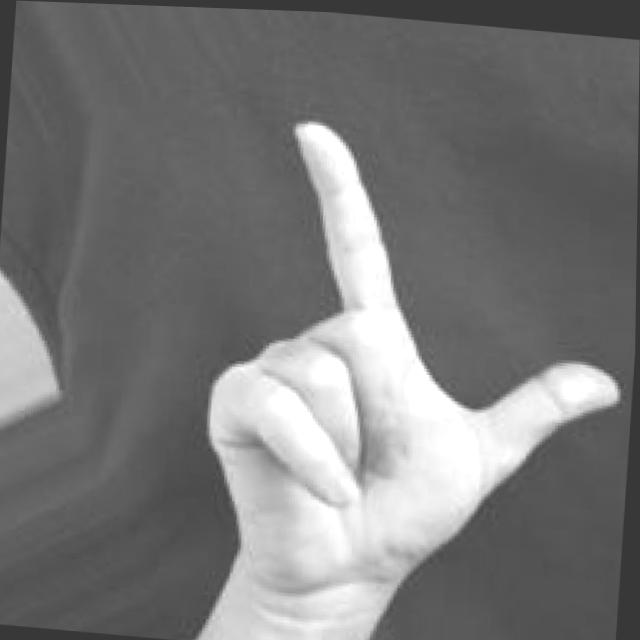L: (191, 100, 639, 614)
